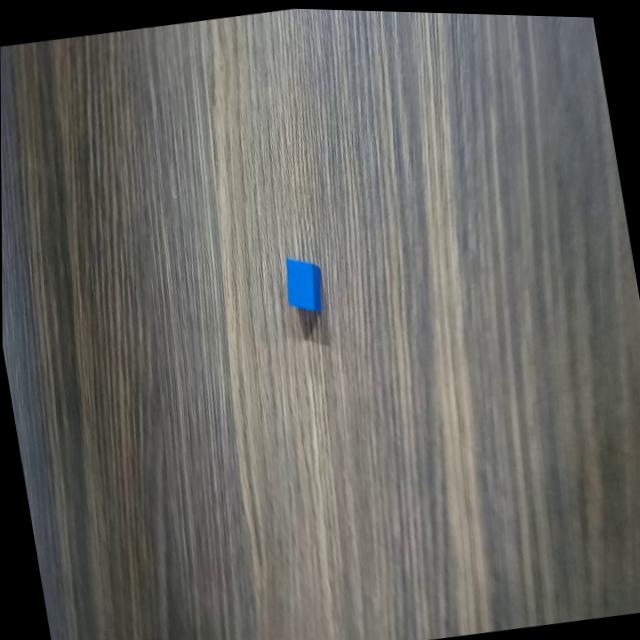cube: (278, 247, 329, 321)
